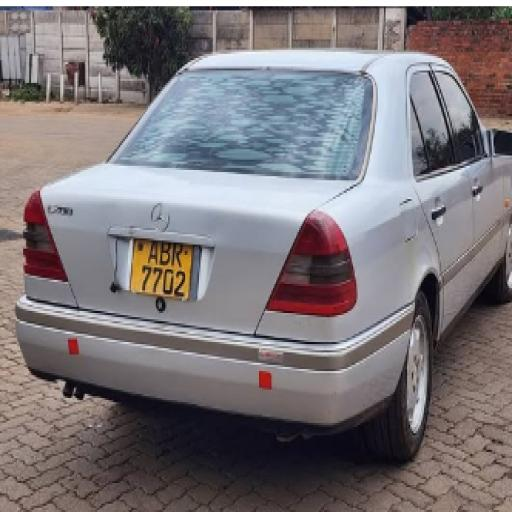number-plates: (129, 237, 190, 297)
